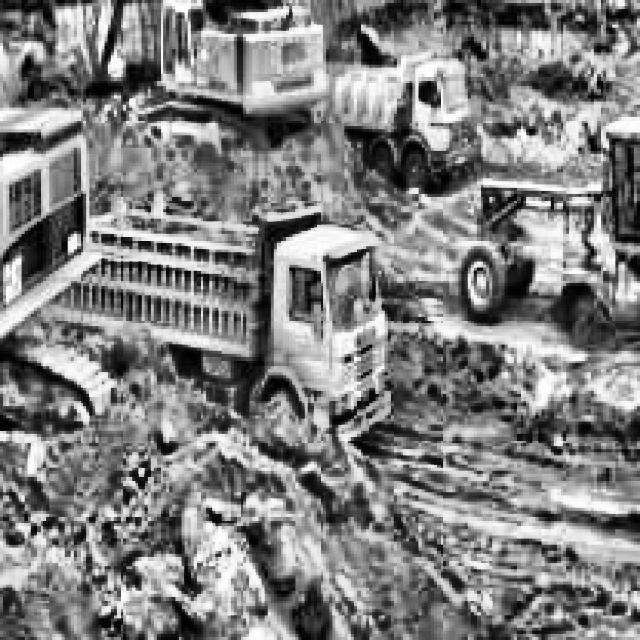buldozerpayloadergrader: (455, 117, 640, 354)
dump_truck: (72, 204, 396, 453)
excavator: (0, 0, 111, 551), (56, 0, 327, 154)
